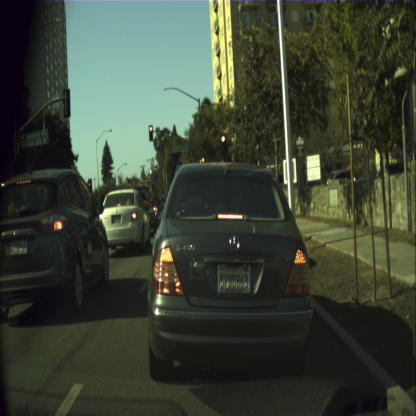Red: (220, 134, 225, 156), (148, 124, 152, 140), (201, 156, 205, 172), (88, 181, 92, 193)
